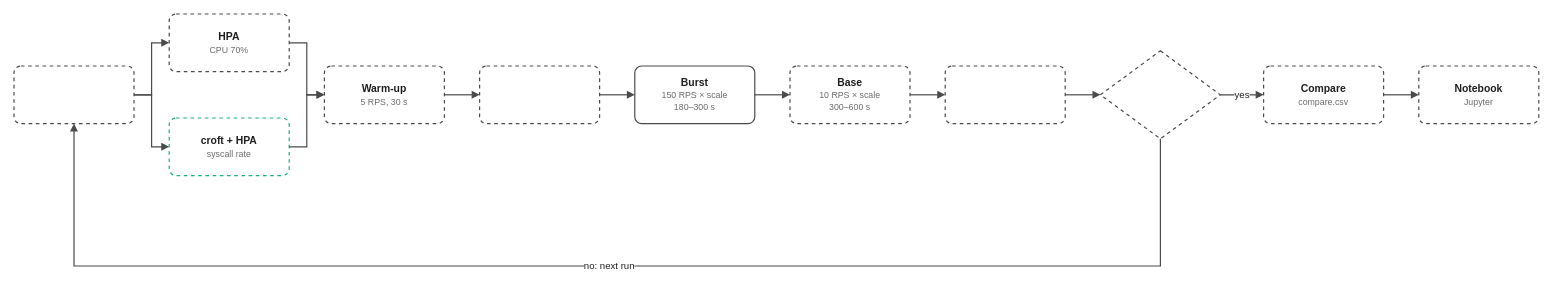
Some shapes in this 1554 by 287 pixel diagram are drawn without their labels. The shapes that lost their labels are listed below. From the top down, each one's centre as x and y in pixels, then its label:
(x=73, y=94): Deploy 1 pod, restarted
(x=539, y=94): Base 10 RPS × scale 0–180 s
(x=1004, y=94): Export CSV + JSON per run
(x=1160, y=94): 2 autoscalers × 3 rounds done?
